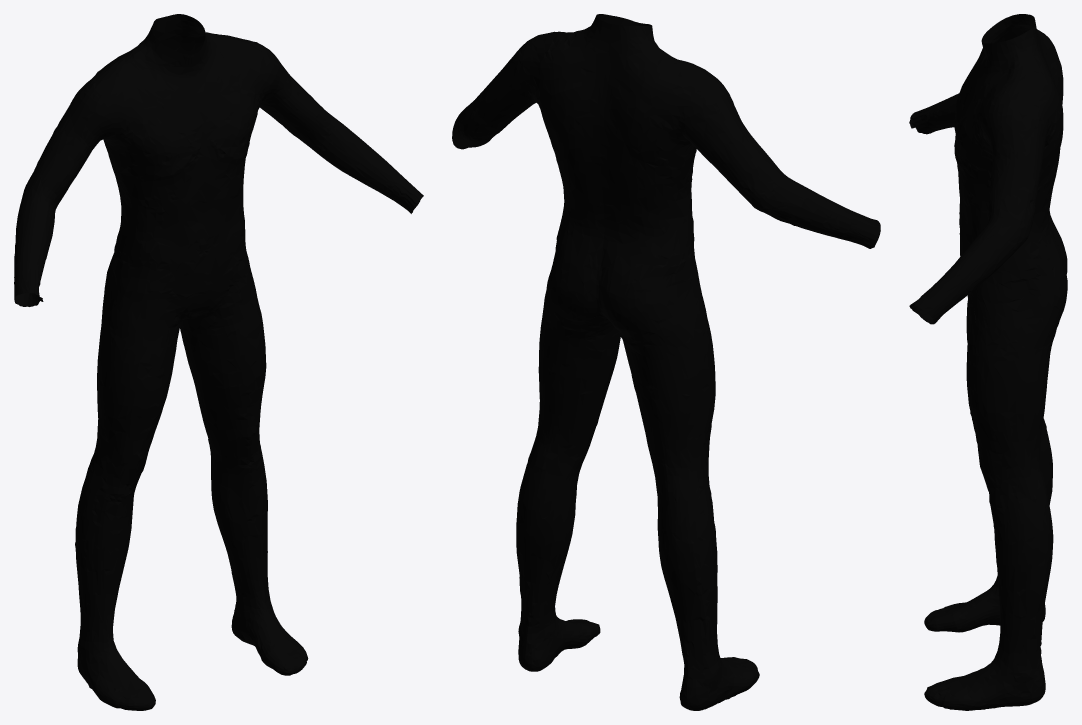
The model's file is mhw_matcreator_mc-bodysuit-2021.glb.
3 views of the same model, side by side, from view 1: azimuth 30°, elevation 25°; view 2: azimuth 150°, elevation 25°; view 3: azimuth 270°, elevation 25° (orthographic). The views are drawn at different scales.
Parts seen in each view (by area): view 1: mhw_matcreator_mc-bodysuit-2021; view 2: mhw_matcreator_mc-bodysuit-2021; view 3: mhw_matcreator_mc-bodysuit-2021.
Boxes of the visible parts, x1,y1,x2,y2 form: mhw_matcreator_mc-bodysuit-2021: (14,14,423,710); mhw_matcreator_mc-bodysuit-2021: (452,14,880,710); mhw_matcreator_mc-bodysuit-2021: (909,14,1067,710).
Bounding box in the file's own units: 1.1 × 1.65 × 0.3681.
1 material, 1 textured.
